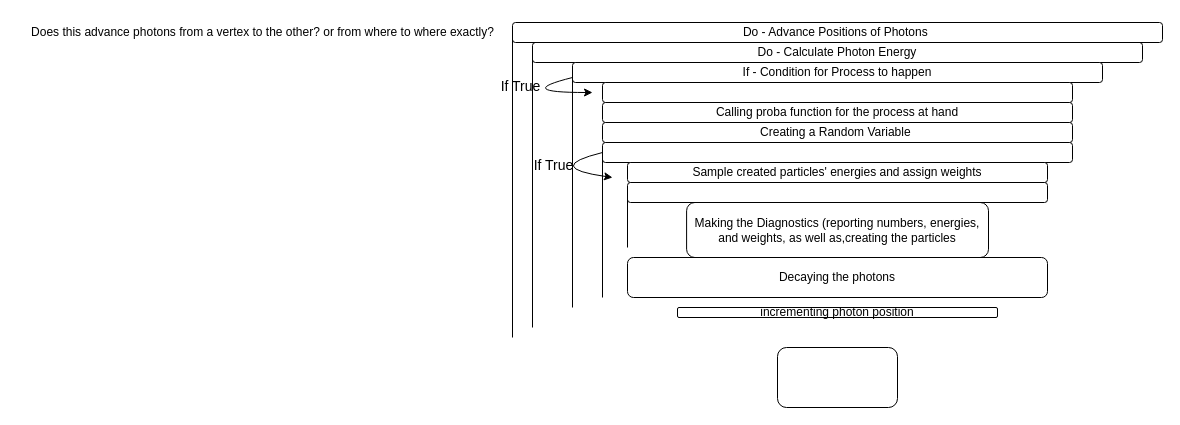
This 1180x425 diagram has some shape labels left out. Here are the shapes that lost their labels. From the top down, the centre of each, then its label:
At pixel 837 92: "Select - Calculating Ion Density at photon position (If needed for proba calc.)".
At pixel 837 152: "If - Comparing proba and random variable".
At pixel 837 192: "If - Condition for making the diagnostics".
At pixel 837 377: "Deleting the photon".
